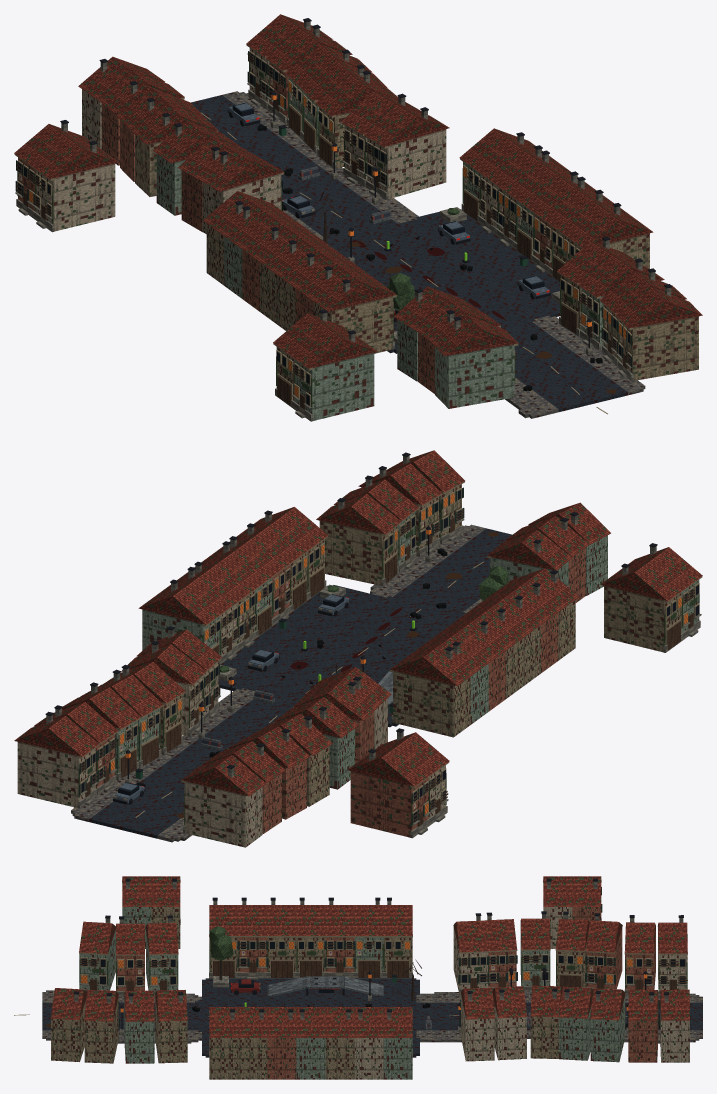
File: Maribor_Route_A.fbx
The picture shows the model from 3 angles, top to bottom: view 1: azimuth 30°, elevation 25°; view 2: azimuth 150°, elevation 25°; view 3: azimuth 270°, elevation 25°; orthographic projection. The views are drawn at different scales.
Parts seen in each view (by area): view 1: PL_A_Ground_065, PL_A_City_053, PL_A_City_057, PL_A_City_055, PL_A_City_058, PL_A_City_060, PL_A_City_054, PL_A_City_061, PL_A_City_062, PL_A_City_059, PL_A_City_052, PL_A_City_056 (+4 smaller); view 2: PL_A_Ground_065, PL_A_City_054, PL_A_City_061, PL_A_City_052, PL_A_City_060, PL_A_City_056, PL_A_City_053, PL_A_City_058, PL_A_City_057, PL_A_City_062, PL_A_City_055, PL_A_Ground_067 (+4 smaller); view 3: PL_A_City_061, PL_A_City_058, PL_A_City_053, PL_A_City_054, PL_A_City_057, PL_A_City_060, PL_A_City_055, PL_A_City_052, PL_A_City_056, PL_A_Ground_065, PL_A_City_059, PL_A_Ground_067 (+4 smaller).
Boxes of the visible parts, x1=… form: PL_A_Ground_065: x1=191, y1=91, x2=627, y2=411; PL_A_City_053: x1=283, y1=59, x2=449, y2=217; PL_A_City_057: x1=131, y1=103, x2=315, y2=233; PL_A_City_055: x1=536, y1=254, x2=702, y2=414; PL_A_City_058: x1=274, y1=243, x2=479, y2=381; PL_A_City_060: x1=352, y1=128, x2=596, y2=286; PL_A_City_054: x1=445, y1=176, x2=653, y2=353; PL_A_City_061: x1=203, y1=191, x2=402, y2=324; PL_A_City_062: x1=14, y1=120, x2=118, y2=232; PL_A_City_059: x1=414, y1=300, x2=532, y2=408; PL_A_City_052: x1=201, y1=14, x2=372, y2=139; PL_A_City_056: x1=78, y1=56, x2=203, y2=181; PL_A_Ground_065: x1=71, y1=528, x2=511, y2=842; PL_A_City_054: x1=209, y1=493, x2=456, y2=646; PL_A_City_061: x1=323, y1=606, x2=526, y2=737; PL_A_City_052: x1=14, y1=682, x2=172, y2=817; PL_A_City_060: x1=138, y1=541, x2=368, y2=703; PL_A_City_056: x1=177, y1=726, x2=309, y2=847; PL_A_City_053: x1=80, y1=626, x2=277, y2=768; PL_A_City_058: x1=406, y1=529, x2=579, y2=685; PL_A_City_057: x1=249, y1=667, x2=391, y2=806; PL_A_City_062: x1=347, y1=728, x2=449, y2=838; PL_A_City_055: x1=334, y1=450, x2=497, y2=578; PL_A_Ground_067: x1=218, y1=585, x2=461, y2=727; PL_A_City_061: x1=296, y1=897, x2=430, y2=1008; PL_A_City_058: x1=145, y1=897, x2=307, y2=1010; PL_A_City_053: x1=449, y1=985, x2=593, y2=1061; PL_A_City_054: x1=154, y1=990, x2=296, y2=1079; PL_A_City_057: x1=453, y1=911, x2=589, y2=994; PL_A_City_060: x1=296, y1=1007, x2=431, y2=1079; PL_A_City_055: x1=14, y1=988, x2=154, y2=1063; PL_A_City_052: x1=590, y1=988, x2=690, y2=1062; PL_A_City_056: x1=585, y1=913, x2=687, y2=1004; PL_A_Ground_065: x1=42, y1=992, x2=702, y2=1043; PL_A_City_059: x1=79, y1=915, x2=144, y2=996; PL_A_Ground_067: x1=202, y1=978, x2=419, y2=1057.
Bounding box in the file's own units: 51.72 × 9.82 × 94.91.
